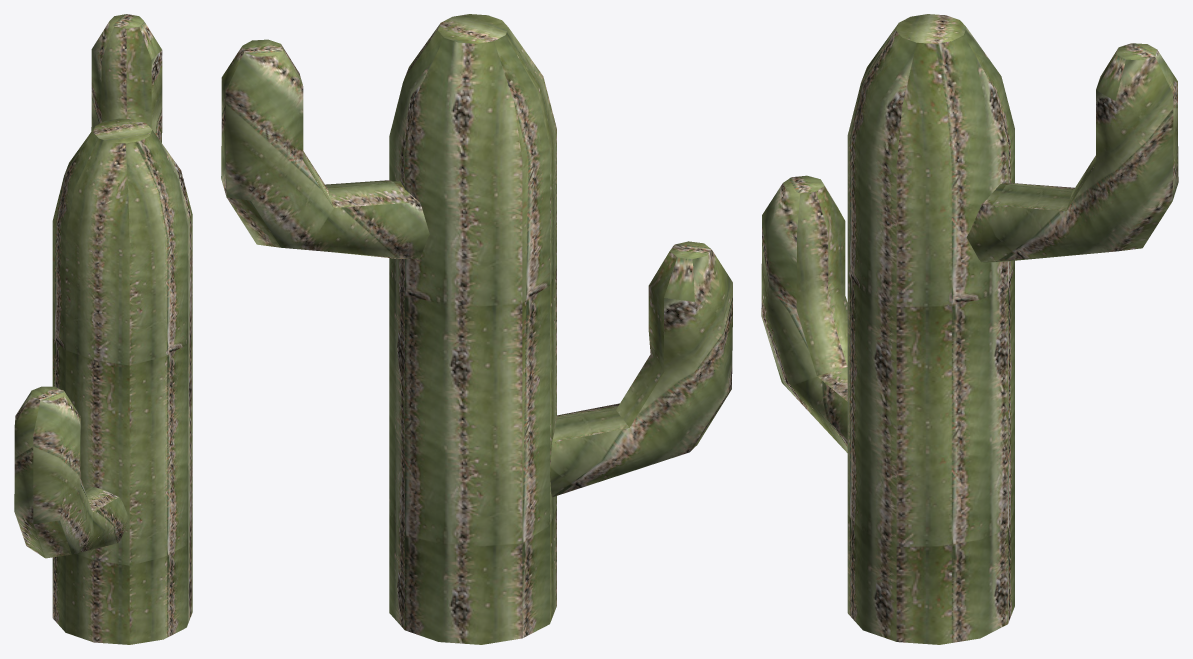
File: cactus_7.obj
The picture shows the model from 3 angles, left to right: view 1: azimuth 30°, elevation 25°; view 2: azimuth 150°, elevation 25°; view 3: azimuth 270°, elevation 25°; orthographic projection. The views are drawn at different scales.
Visible parts, largest first — view 1: cactus3; view 2: cactus3; view 3: cactus3.
Part boxes in pixels (left/top/right/bottom): cactus3: left=14, top=14, right=192, bottom=644; cactus3: left=221, top=14, right=732, bottom=644; cactus3: left=761, top=14, right=1178, bottom=644.
Bounding box in the file's own units: 2.18 × 3.81 × 2.36.
Materials: 1 (1 with a texture image).
